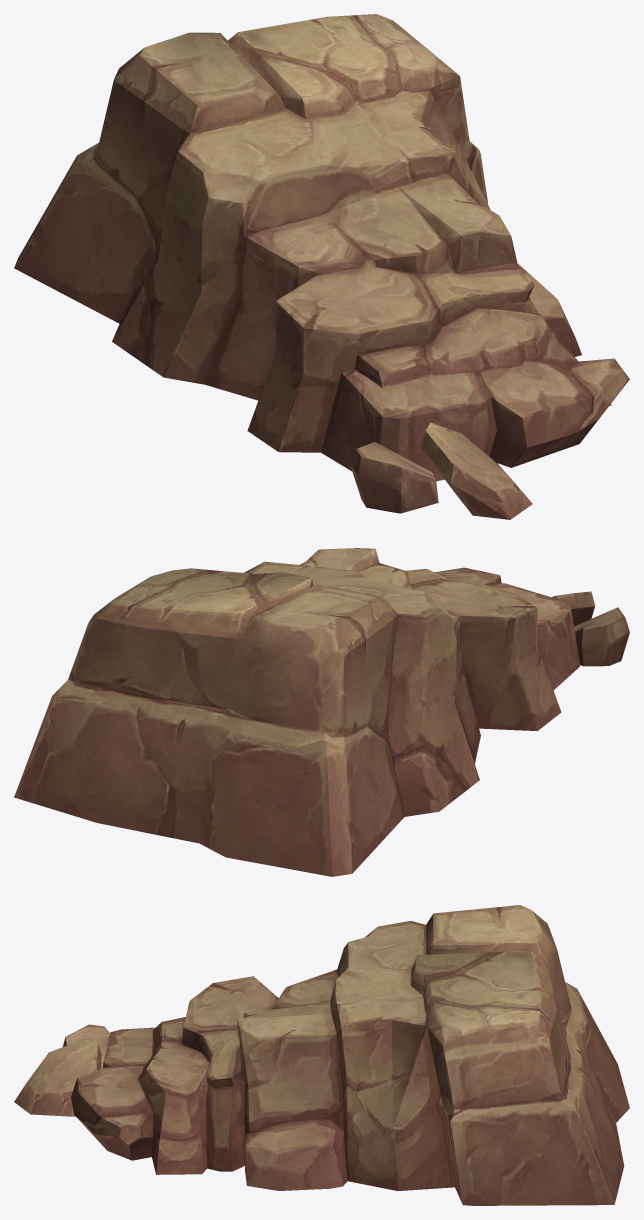
Rendered from stone_35.FBX.
3 renders of one model, top to bottom at view 1: azimuth 30°, elevation 25°; view 2: azimuth 150°, elevation 25°; view 3: azimuth 270°, elevation 25°, orthographic. The views are drawn at different scales.
Parts seen in each view (by area): view 1: stone_35; view 2: stone_35; view 3: stone_35.
Part boxes in pixels (x1,y1,x2,y2): stone_35: (14, 14, 629, 519); stone_35: (14, 548, 629, 876); stone_35: (14, 905, 629, 1205).
Bounding box in the file's own units: 11.78 × 6.73 × 20.76.
